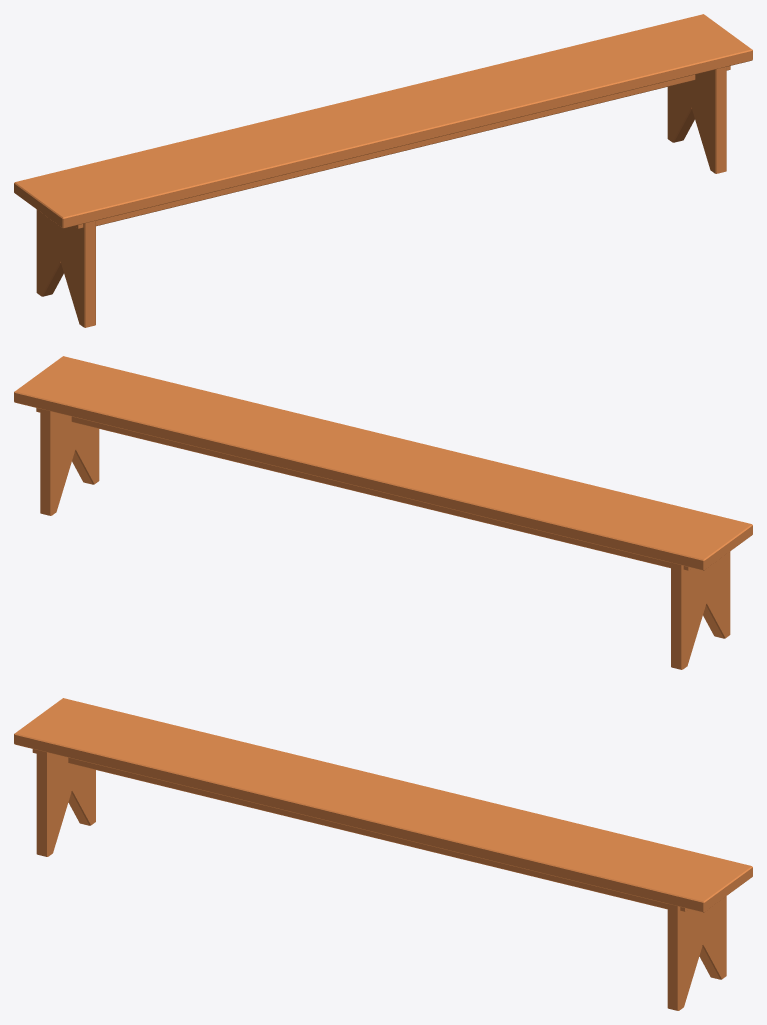
Rendered from banco_largo.fbx.
3 views of the same model, one above another, from view 1: azimuth 30°, elevation 25°; view 2: azimuth 150°, elevation 25°; view 3: azimuth 330°, elevation 25° (orthographic).
Parts seen in each view (by area): view 1: banco_largo; view 2: banco_largo; view 3: banco_largo.
Part boxes in pixels (x1,y1,x2,y2): banco_largo: (14, 14, 752, 327); banco_largo: (14, 356, 752, 669); banco_largo: (14, 698, 752, 1010).
Bounding box in the file's own units: 309 × 49.62 × 38.3.
